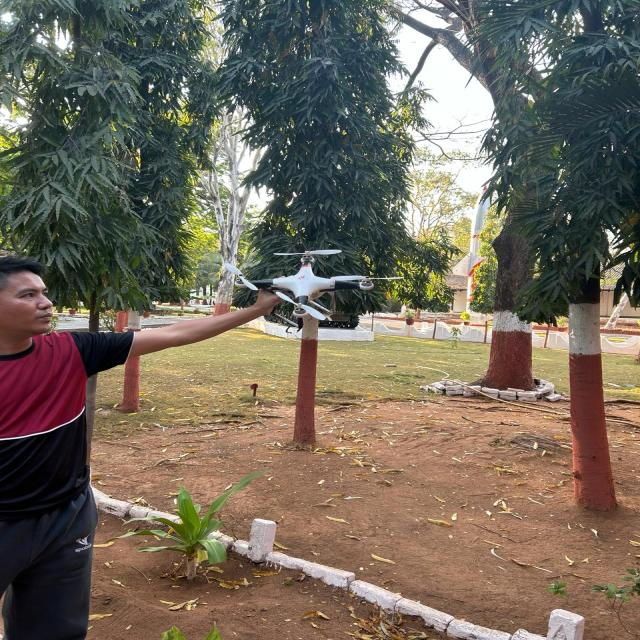drone: (200, 237, 412, 342)
